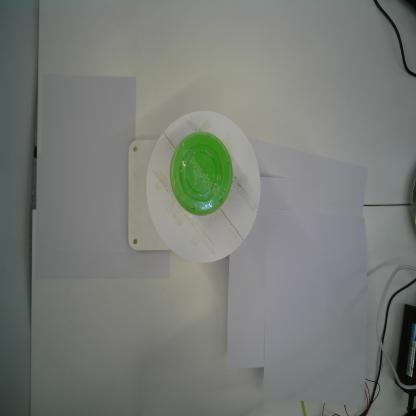Instant Drink: (169, 130, 235, 220)
